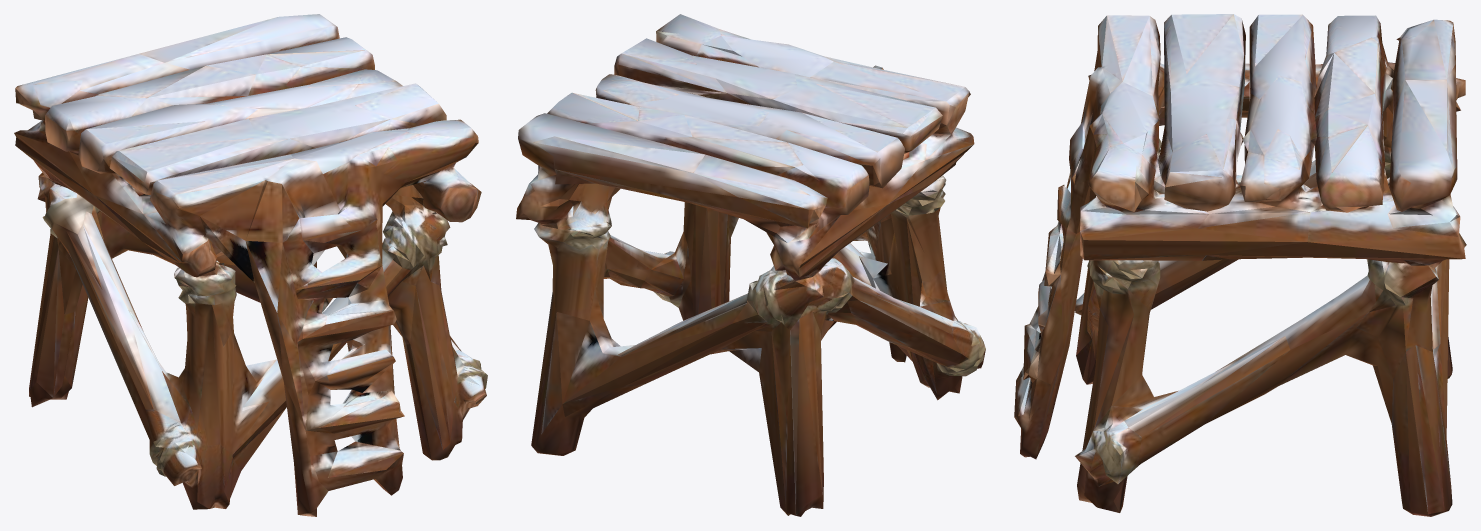
File: tower-wood-base-low.glb
3 renders of one model, left to right at view 1: azimuth 30°, elevation 25°; view 2: azimuth 150°, elevation 25°; view 3: azimuth 270°, elevation 25°, orthographic. The views are drawn at different scales.
Visible parts, largest first — view 1: output_unwrapped; view 2: output_unwrapped; view 3: output_unwrapped.
Part boxes in pixels (x1,y1,x2,y2): output_unwrapped: (14, 14, 487, 516); output_unwrapped: (516, 14, 985, 516); output_unwrapped: (1014, 14, 1466, 516).
Size of the model in its own units: 1.06 by 1 by 1.15.
1 material, 1 textured.
